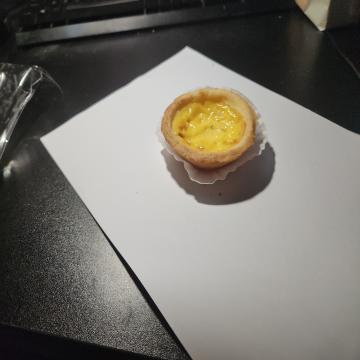EggTart: (160, 86, 257, 172)
